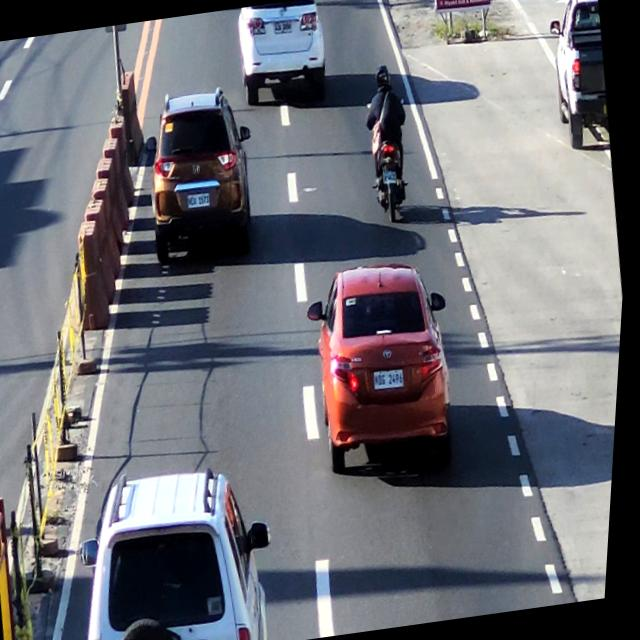Car: (76, 465, 288, 640), (306, 252, 472, 474), (137, 88, 265, 264), (229, 0, 333, 103), (545, 0, 617, 145)
License-Plate: (375, 368, 411, 392), (188, 190, 214, 212), (271, 18, 295, 38), (383, 170, 402, 187)
Motorcycle: (358, 65, 419, 217)
